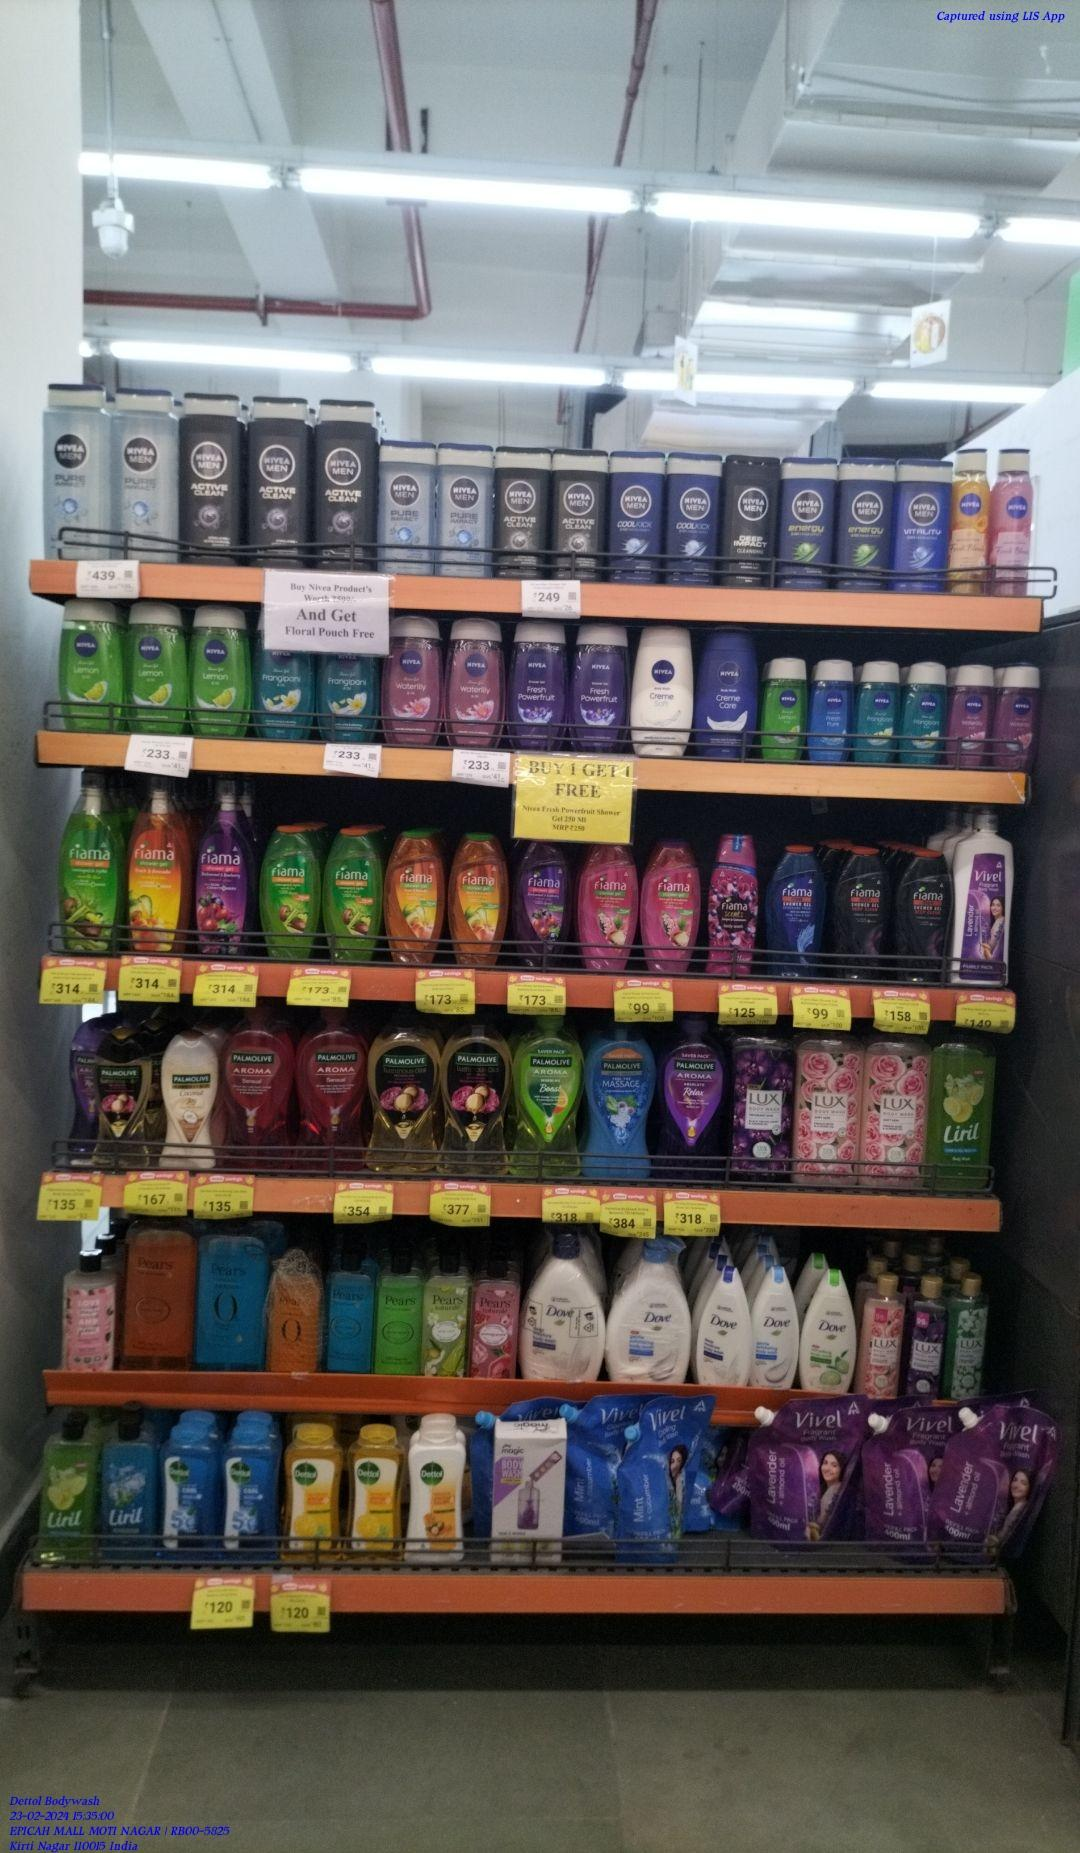Dettol_Bodywash_Cool: (162, 1426, 220, 1560), (224, 1424, 280, 1559)
Dettol_Bodywash_Refresh: (282, 1428, 343, 1560), (347, 1426, 404, 1564)
Dettol_Nourish_Body_Wash_250ML: (406, 1420, 463, 1560)
Dove_Deep_Moisture_Body_Wash_250ML: (701, 1264, 750, 1389)
Dove_Gentle_Exfoliating_Body_Wash_250ML: (747, 1264, 796, 1390)
Dove_Refreshing_Body_Wash_250ML: (796, 1263, 854, 1394)
Fiama_Shower_Gel_Lemongrass_and_Jojoba_250ML: (261, 825, 318, 956), (325, 825, 375, 959)
Fiama_Shower_Gel_Patchouli_and_Macadamia_250ML: (577, 842, 635, 971), (642, 838, 694, 975)
Fiama_Shower_Gel_Peach_and_Avocado_250ML: (446, 828, 508, 969), (386, 828, 444, 964)
Liril_Cooling_Mint_Body_Wash_250ML: (100, 1415, 159, 1560)
Liril_Lime_and_Tea_Tree_Oil_Body_Wash_250ML: (37, 1420, 98, 1563)
Lux_Black_Orchid_Scent_and_Juniper_Oil_Body_Wash_245ML: (905, 1276, 946, 1398)
Lux_Body_Wash_Skin_Detox_Freesia_Scent_and_Alove_Vera_245ML: (948, 1273, 989, 1396)
Nivea_Creme_Care_Body_Wash_250ML: (696, 619, 757, 756)
Nivea_Creme_Soft_Body_Wash_250ML: (631, 622, 692, 758)
Nivea_Shower_Gel_Frangipani_and_Oil_250ML: (319, 650, 378, 747), (256, 645, 314, 743)
Nivea_Shower_Gel_Lemon_and_Oil_250ML: (190, 603, 253, 740), (58, 600, 122, 734), (126, 600, 188, 732)
Nivea_Shower_Gel_Waterlily_and_Oil_250ML: (382, 614, 442, 748), (446, 617, 503, 750)
Palmolive_Coconut_Joy_Exfoliating_Body_Wash_250ML: (159, 1036, 220, 1169)
Palmolive_Luminous_Oils_Invigorating_Macadamia_Oil_With_Peony_250ML: (95, 1031, 153, 1167)
Palmolive_Luminous_Oils_With_White_Orchid_Shower_Gel_250ML: (509, 617, 568, 752), (573, 618, 622, 752)
Pears_Naturale_Aloe_Vera_Body_Wash_250ML: (426, 1246, 469, 1378)
Pears_Pure_Glycerin_and_Lemon_Flower_Extracts_Body_Wash_250ML: (374, 1246, 424, 1375)
Pears_Pure_Glycerin_and_Mint_Extracts_Body_Wash_250ML: (324, 1252, 374, 1375)
